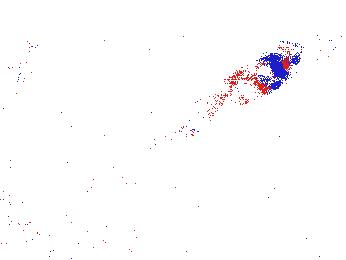X-ray fish: (217, 53, 296, 103)
red belly glassfish: (177, 122, 218, 140)
redtail glassfish: (272, 32, 346, 62), (9, 40, 40, 85)
